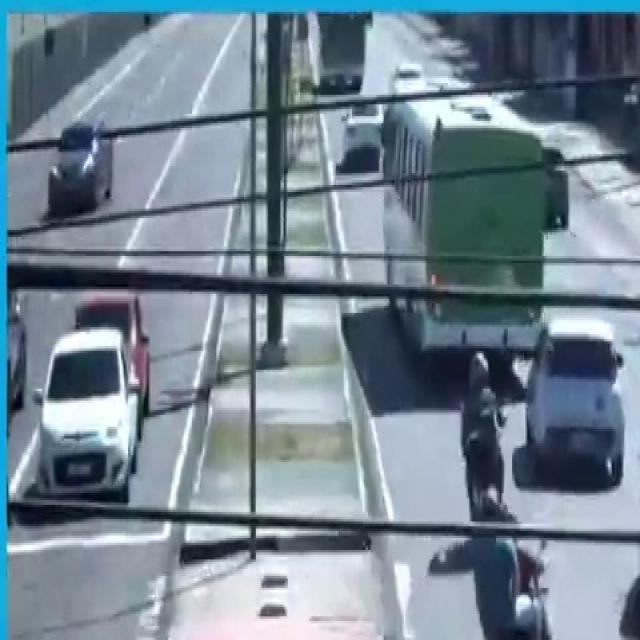biker: (469, 490, 567, 640)
car: (36, 315, 140, 510), (525, 315, 626, 486), (47, 117, 117, 212), (637, 408, 640, 626)
truck: (382, 73, 551, 374)
